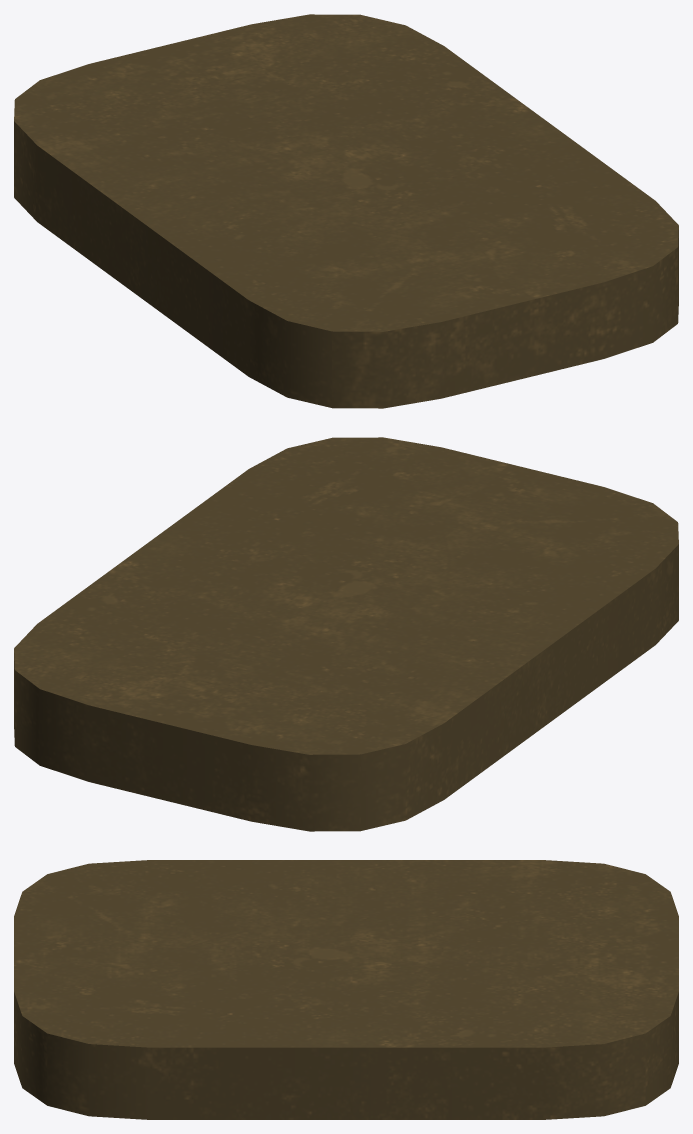
Rendered from tablet.FBX.
3 renders of one model, top to bottom at view 1: azimuth 30°, elevation 25°; view 2: azimuth 150°, elevation 25°; view 3: azimuth 270°, elevation 25°, orthographic. The views are drawn at different scales.
Visible parts, largest first — view 1: Box001; view 2: Box001; view 3: Box001.
Boxes of the visible parts, x1,y1,x2,y2 form: Box001: [14, 14, 678, 408]; Box001: [14, 437, 678, 831]; Box001: [14, 860, 678, 1119].
Bounding box in the file's own units: 10 × 1.8 × 15.
1 material, 1 textured.
